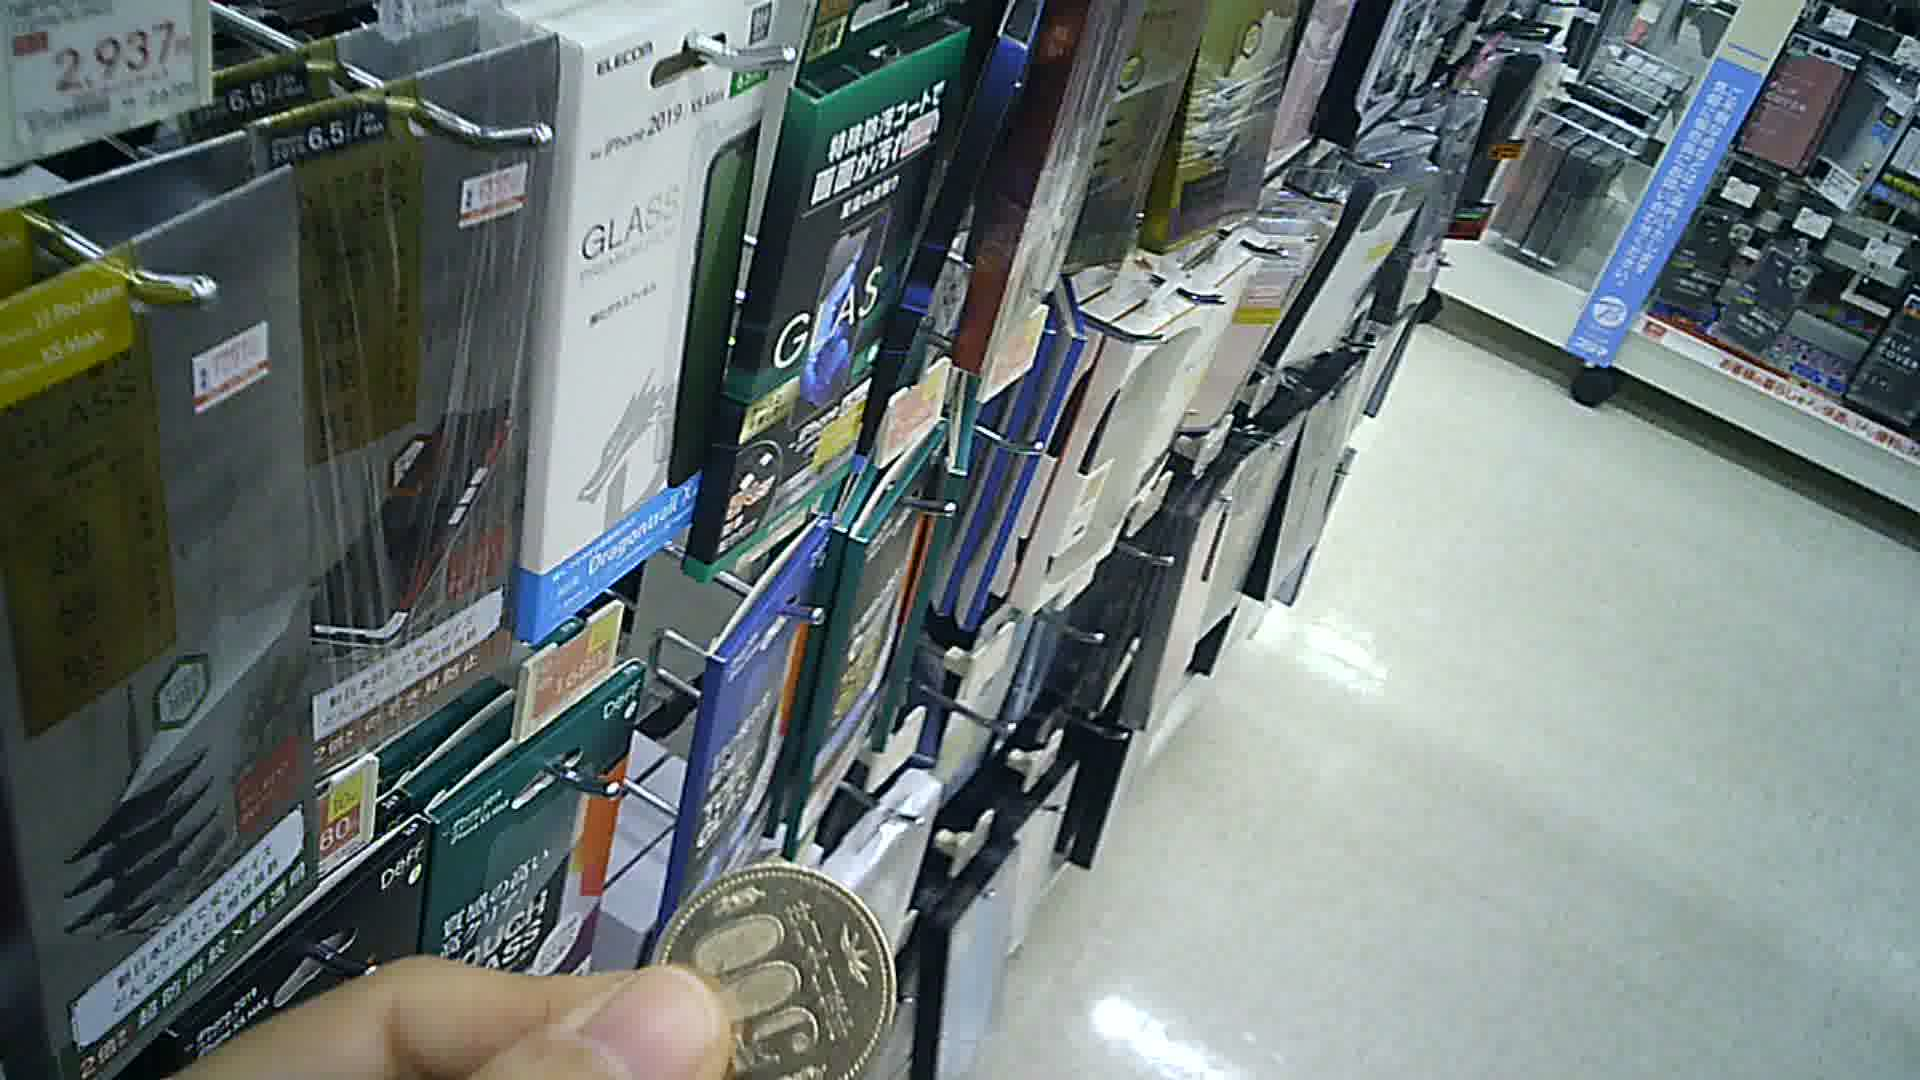500 Yen: (641, 866, 906, 1079)
